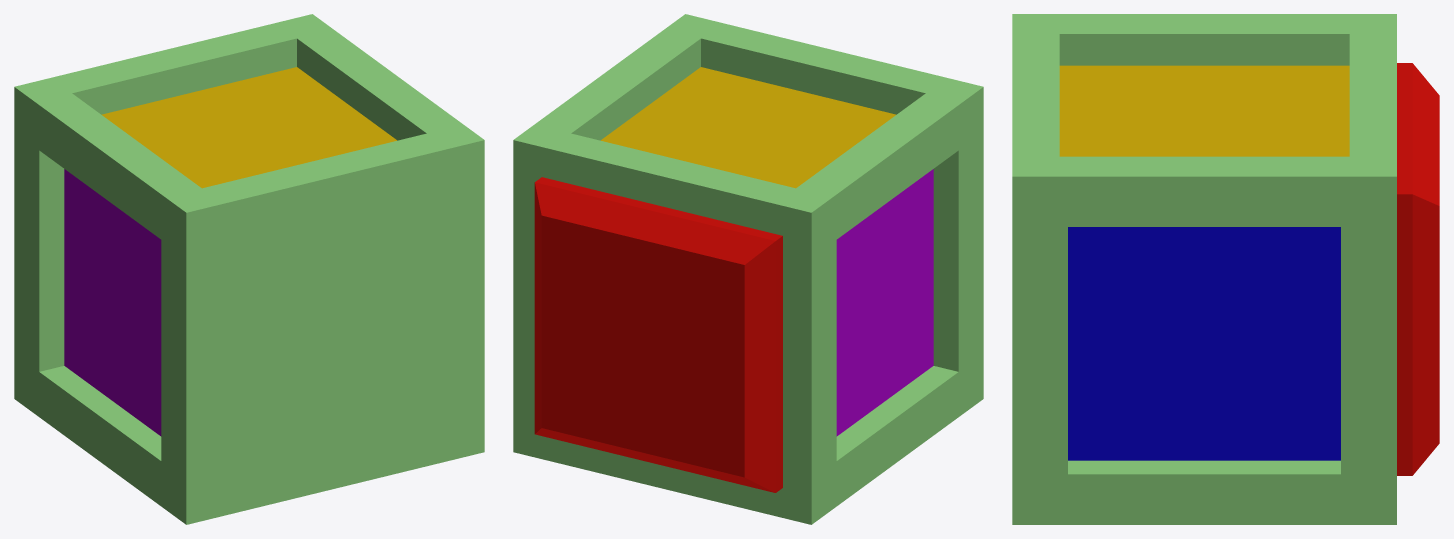
Rendered from Target.fbx.
The picture shows the model from 3 angles, left to right: view 1: azimuth 30°, elevation 25°; view 2: azimuth 150°, elevation 25°; view 3: azimuth 270°, elevation 25°; orthographic projection. The views are drawn at different scales.
Visible parts, largest first — view 1: Cube; view 2: Cube; view 3: Cube.
Boxes of the visible parts, bbox=[...] form: Cube: bbox=[14, 14, 484, 524]; Cube: bbox=[513, 14, 983, 524]; Cube: bbox=[1012, 14, 1439, 524].
Size of the model in its own units: 200 by 200 by 222.
